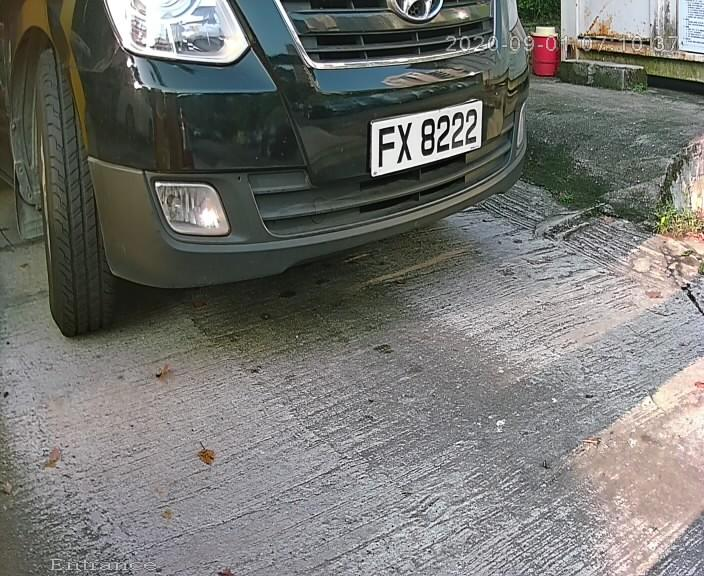License Plate: (359, 93, 485, 186)
